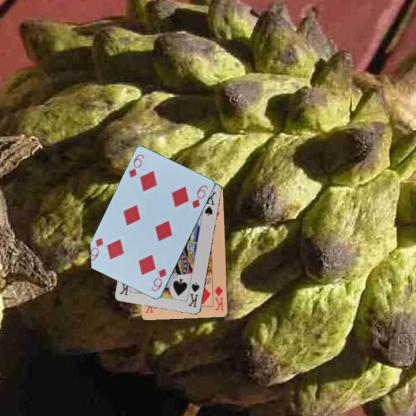6d: (126, 152, 146, 179), (149, 266, 168, 293)
Kd: (212, 284, 225, 312)
Ks: (186, 280, 200, 309)
